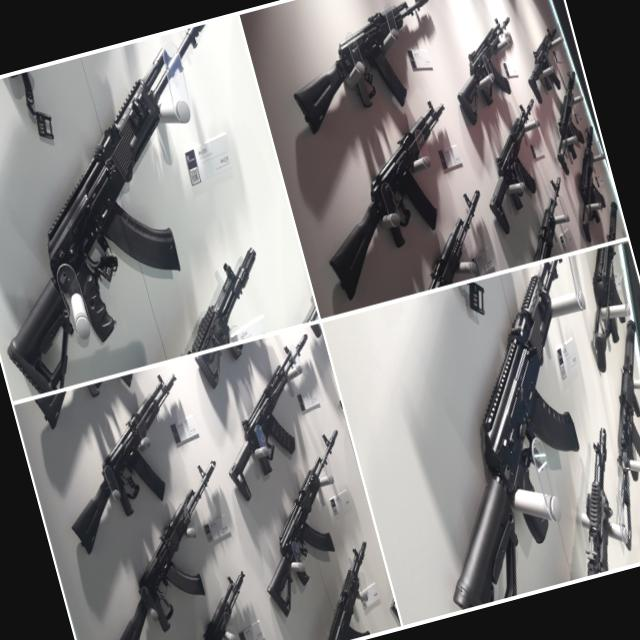long weapon: (0, 38, 280, 378), (289, 96, 481, 298), (276, 0, 467, 149), (436, 3, 546, 123)
